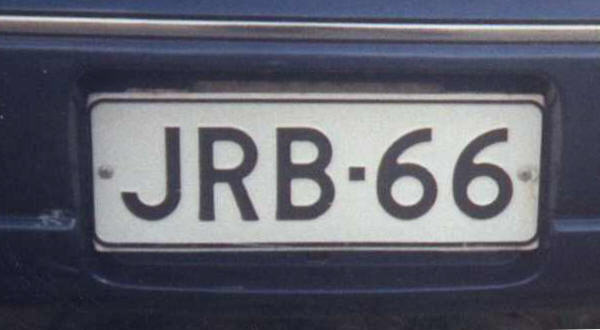license_plate: (86, 97, 544, 249)
